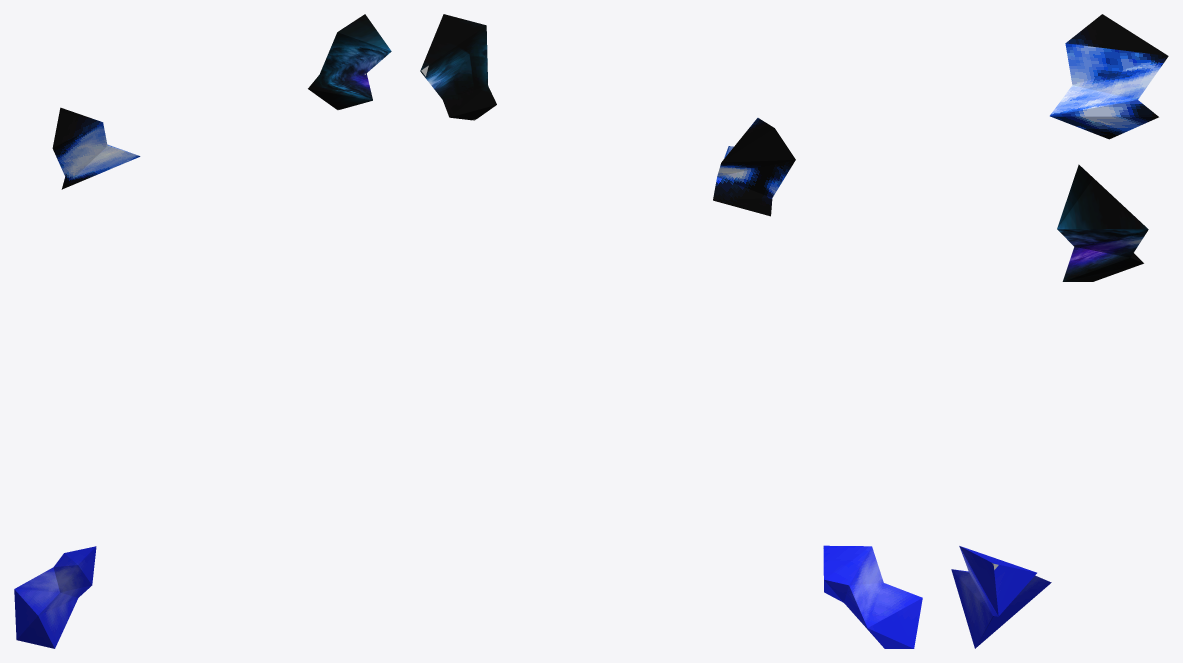
File: tx_bingdongzhadan_fire_01.obj
3 renders of one model, left to right at view 1: azimuth 30°, elevation 25°; view 2: azimuth 150°, elevation 25°; view 3: azimuth 270°, elevation 25°, orthographic. The views are drawn at different scales.
Visible parts, largest first — view 1: Mesh_Frostbolt01, Mesh_Frostbolt04, Mesh_Frostbolt02; view 2: Mesh_Frostbolt01, Mesh_Frostbolt04, Mesh_Frostbolt02; view 3: Mesh_Frostbolt02, Mesh_Frostbolt04, Mesh_Frostbolt01.
Part boxes in pixels (bbox=[...]): Mesh_Frostbolt01: bbox=[14, 546, 96, 648]; Mesh_Frostbolt04: bbox=[308, 14, 391, 109]; Mesh_Frostbolt02: bbox=[52, 107, 140, 189]; Mesh_Frostbolt01: bbox=[823, 545, 922, 648]; Mesh_Frostbolt04: bbox=[420, 14, 496, 120]; Mesh_Frostbolt02: bbox=[713, 118, 795, 216]; Mesh_Frostbolt02: bbox=[1050, 14, 1168, 139]; Mesh_Frostbolt04: bbox=[1057, 164, 1148, 281]; Mesh_Frostbolt01: bbox=[951, 546, 1051, 648].
Bounding box in the file's own units: 47.25 × 58.46 × 16.31.
